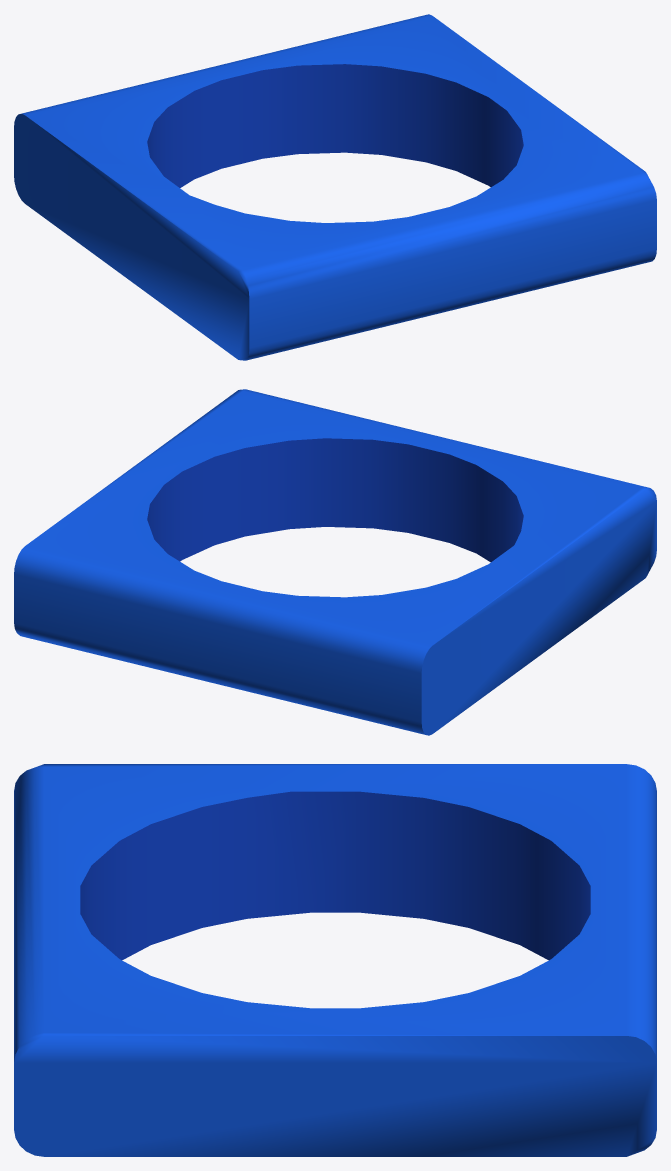
Rendered from MoldSphere.fbx.
The picture shows the model from 3 angles, top to bottom: view 1: azimuth 30°, elevation 25°; view 2: azimuth 150°, elevation 25°; view 3: azimuth 270°, elevation 25°; orthographic projection. The views are drawn at different scales.
Parts seen in each view (by area): view 1: MoldSphere.001; view 2: MoldSphere.001; view 3: MoldSphere.001.
Boxes of the visible parts, x1,y1,x2,y2 form: MoldSphere.001: (14, 14, 656, 360); MoldSphere.001: (14, 389, 656, 735); MoldSphere.001: (14, 764, 656, 1156).
Size of the model in its own units: 2.99 by 0.6218 by 2.99.
